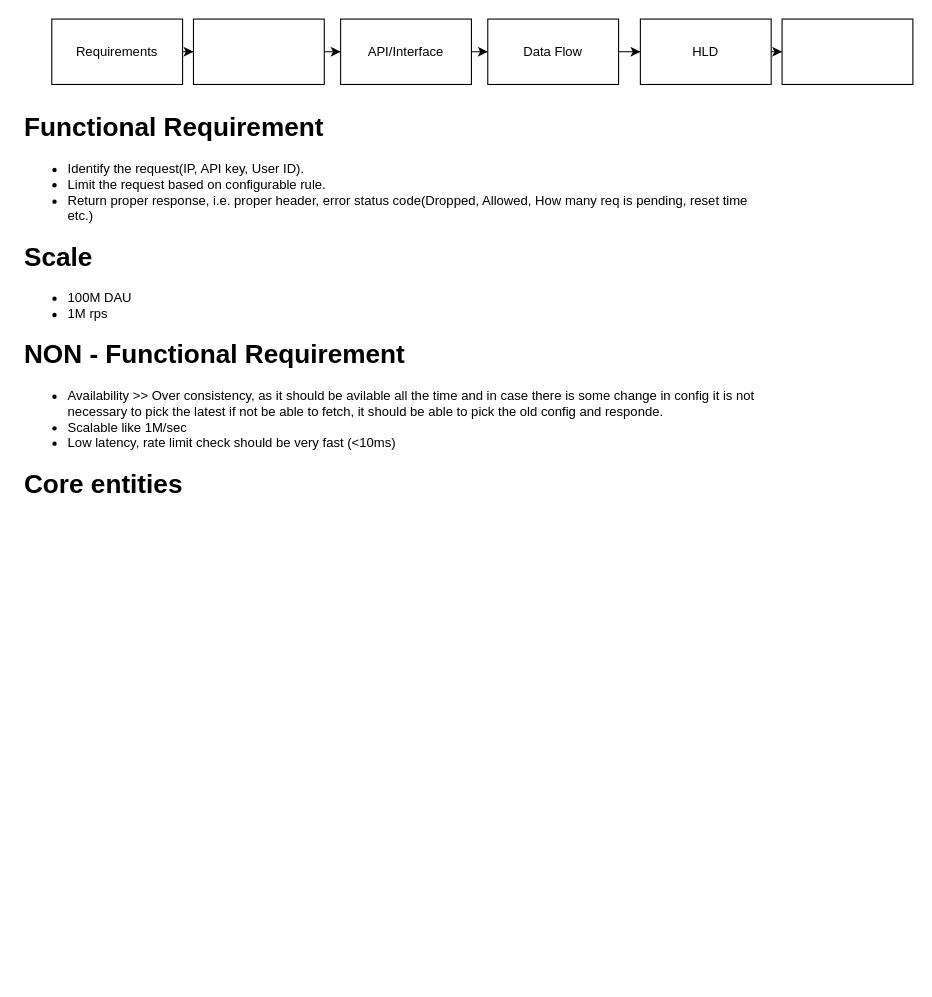
The diagram is 932 pixels wide and 997 high, and some of its shapes have lost their labels. Here are the shapes that lost their labels. From the top down, the centre of each, then its label:
At pixel 258 51: "Core Entities".
At pixel 847 51: "Deep Dive".
